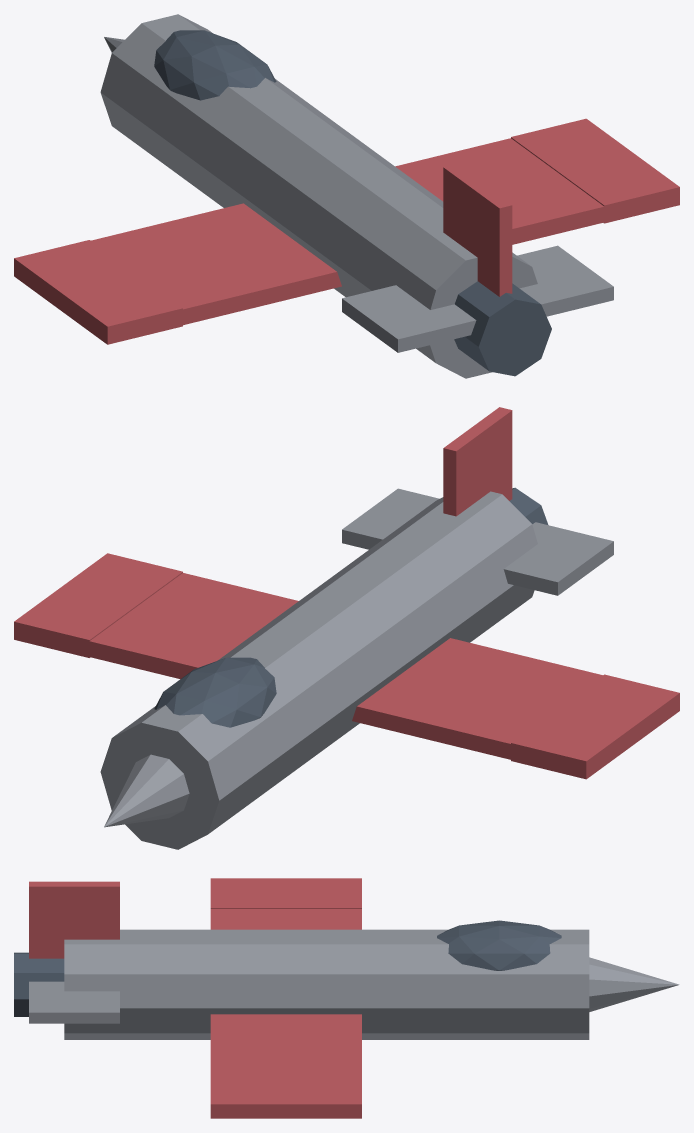
Rendered from enemy_fighter.glb.
The picture shows the model from 3 angles, top to bottom: view 1: azimuth 30°, elevation 25°; view 2: azimuth 150°, elevation 25°; view 3: azimuth 270°, elevation 25°; orthographic projection. The views are drawn at different scales.
Parts seen in each view (by area): view 1: p0, p2, p7, p3, p8, p6, p4, p5; view 2: p0, p2, p7, p8, p3, p5, p4, p1, p6; view 3: p0, p2, p8, p4, p7, p5, p3, p1, p6.
Boxes of the visible parts, x1=… form: p0: x1=100, y1=14, x2=537, y2=378; p2: x1=91, y1=138, x2=604, y2=334; p7: x1=14, y1=240, x2=182, y2=344; p3: x1=342, y1=245, x2=613, y2=352; p8: x1=511, y1=118, x2=679, y2=223; p6: x1=454, y1=281, x2=551, y2=376; p4: x1=443, y1=164, x2=512, y2=296; p5: x1=154, y1=30, x2=276, y2=100; p0: x1=100, y1=491, x2=537, y2=849; p2: x1=51, y1=573, x2=602, y2=768; p7: x1=511, y1=674, x2=679, y2=779; p8: x1=14, y1=553, x2=182, y2=657; p3: x1=342, y1=488, x2=613, y2=595; p5: x1=154, y1=657, x2=276, y2=727; p4: x1=443, y1=407, x2=512, y2=516; p1: x1=104, y1=754, x2=189, y2=827; p6: x1=509, y1=487, x2=548, y2=525; p0: x1=64, y1=929, x2=589, y2=1039; p2: x1=210, y1=909, x2=361, y2=1074; p8: x1=210, y1=1074, x2=361, y2=1118; p4: x1=29, y1=881, x2=119, y2=958; p7: x1=210, y1=878, x2=361, y2=908; p5: x1=437, y1=920, x2=561, y2=970; p3: x1=29, y1=981, x2=119, y2=1023; p1: x1=589, y1=957, x2=679, y2=1011; p6: x1=14, y1=952, x2=64, y2=1016.
Size of the model in its own units: 5.3 by 1.62 by 6.6.
